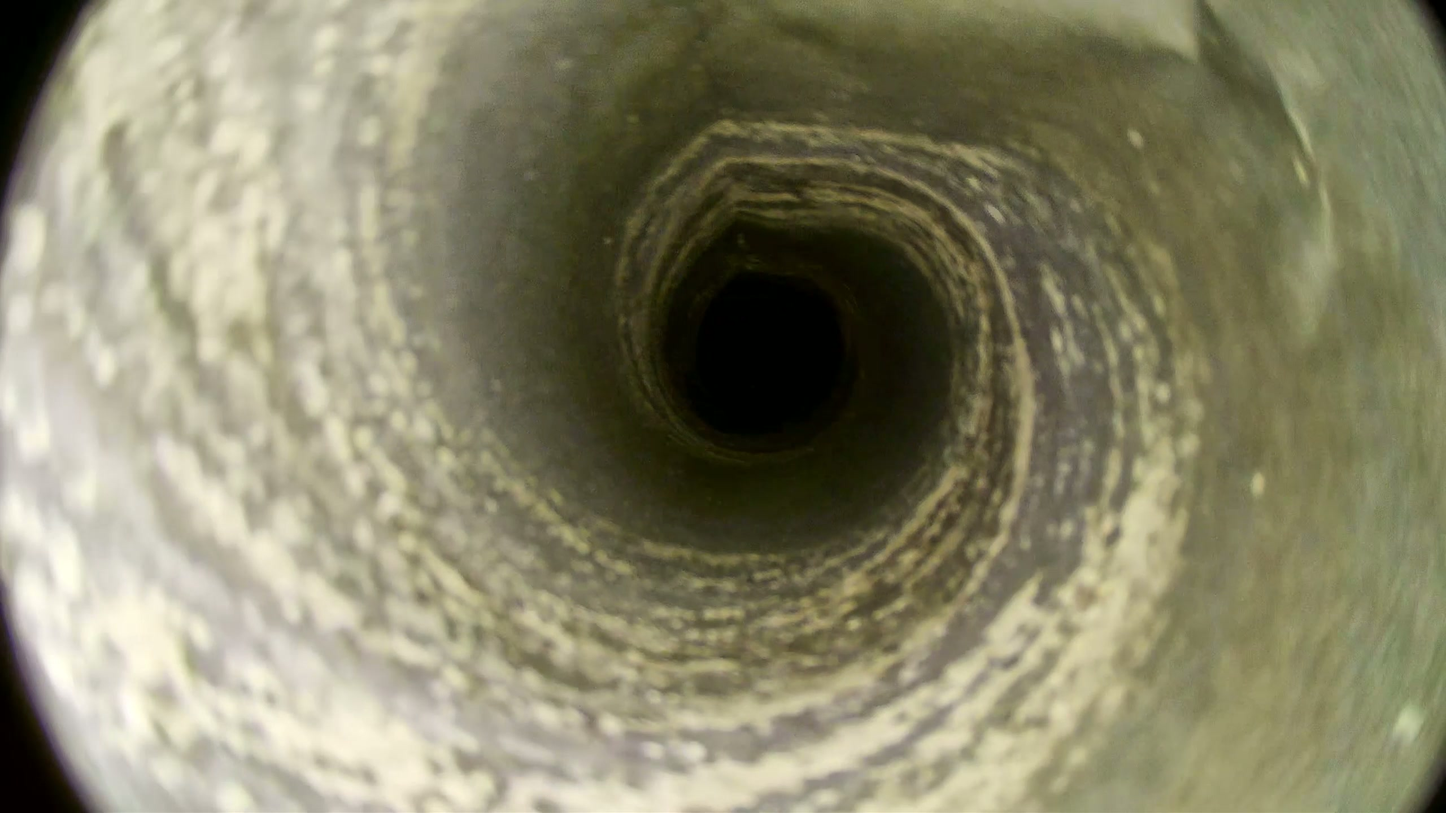hole: (697, 278, 843, 425)
